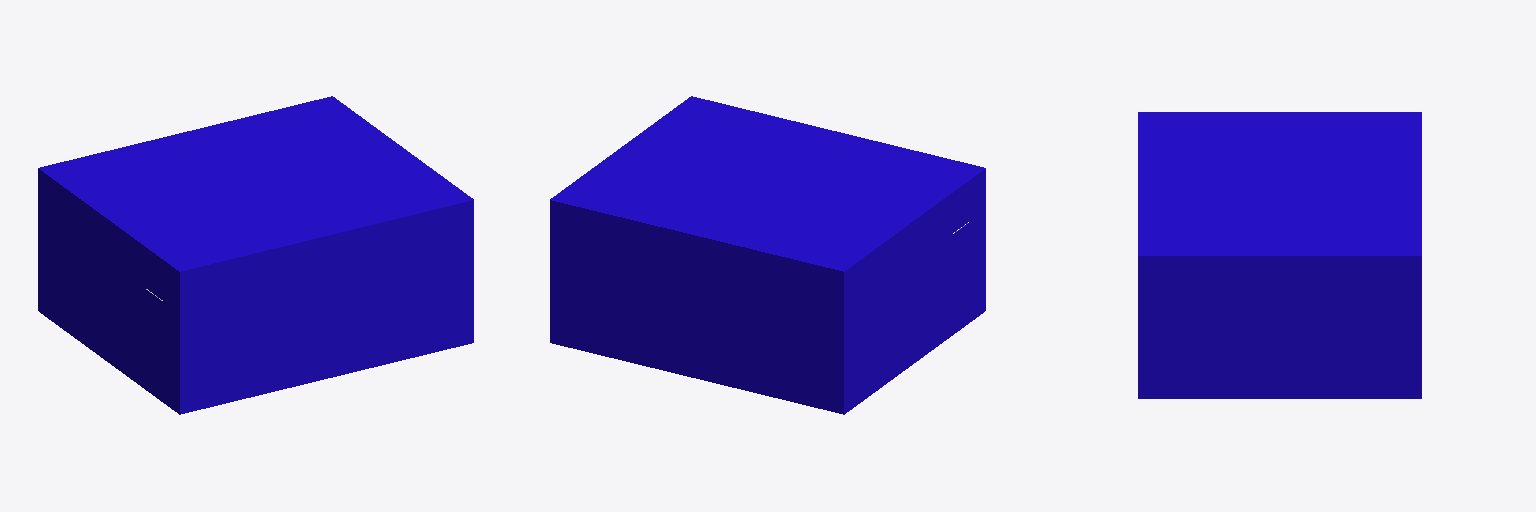
File: vraie_piece.obj
3 views of the same model, side by side, from view 1: azimuth 30°, elevation 25°; view 2: azimuth 150°, elevation 25°; view 3: azimuth 270°, elevation 25° (orthographic).
Visible parts, largest first — view 1: murs; view 2: murs; view 3: murs.
Boxes of the visible parts, x1,y1,x2,y2 form: murs: [38, 96, 473, 414]; murs: [550, 96, 985, 414]; murs: [1138, 112, 1421, 398].
Bounding box in the file's own units: 19.73 × 9.2 × 16.43.